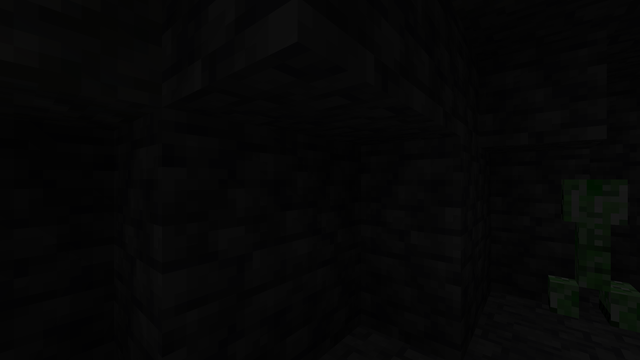creepers: (554, 172, 634, 333)
